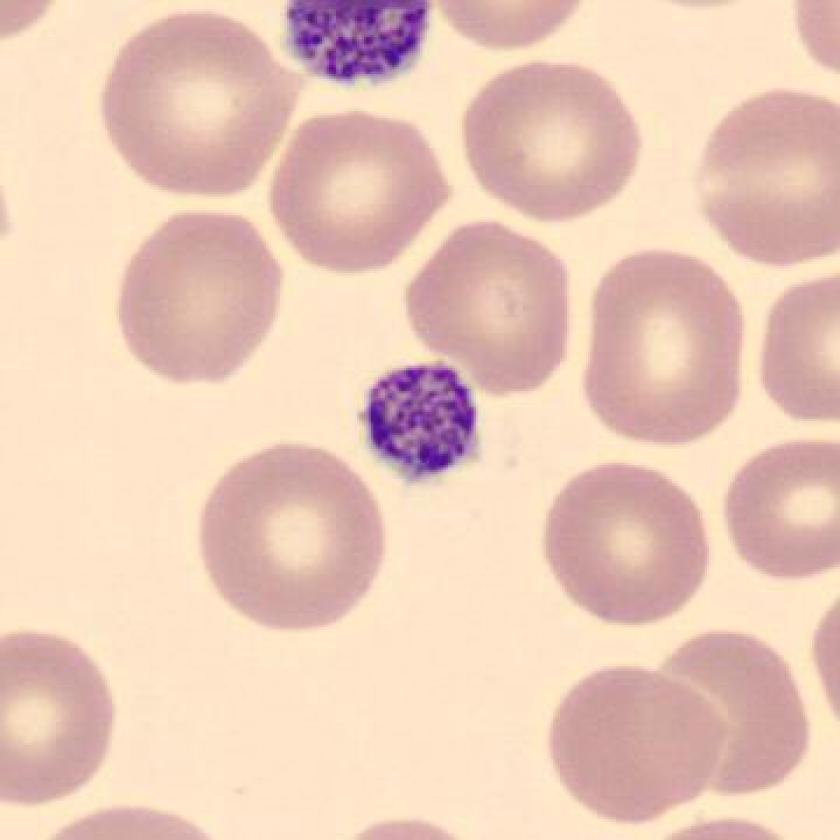platelets: (349, 350, 496, 494), (265, 1, 442, 105)
